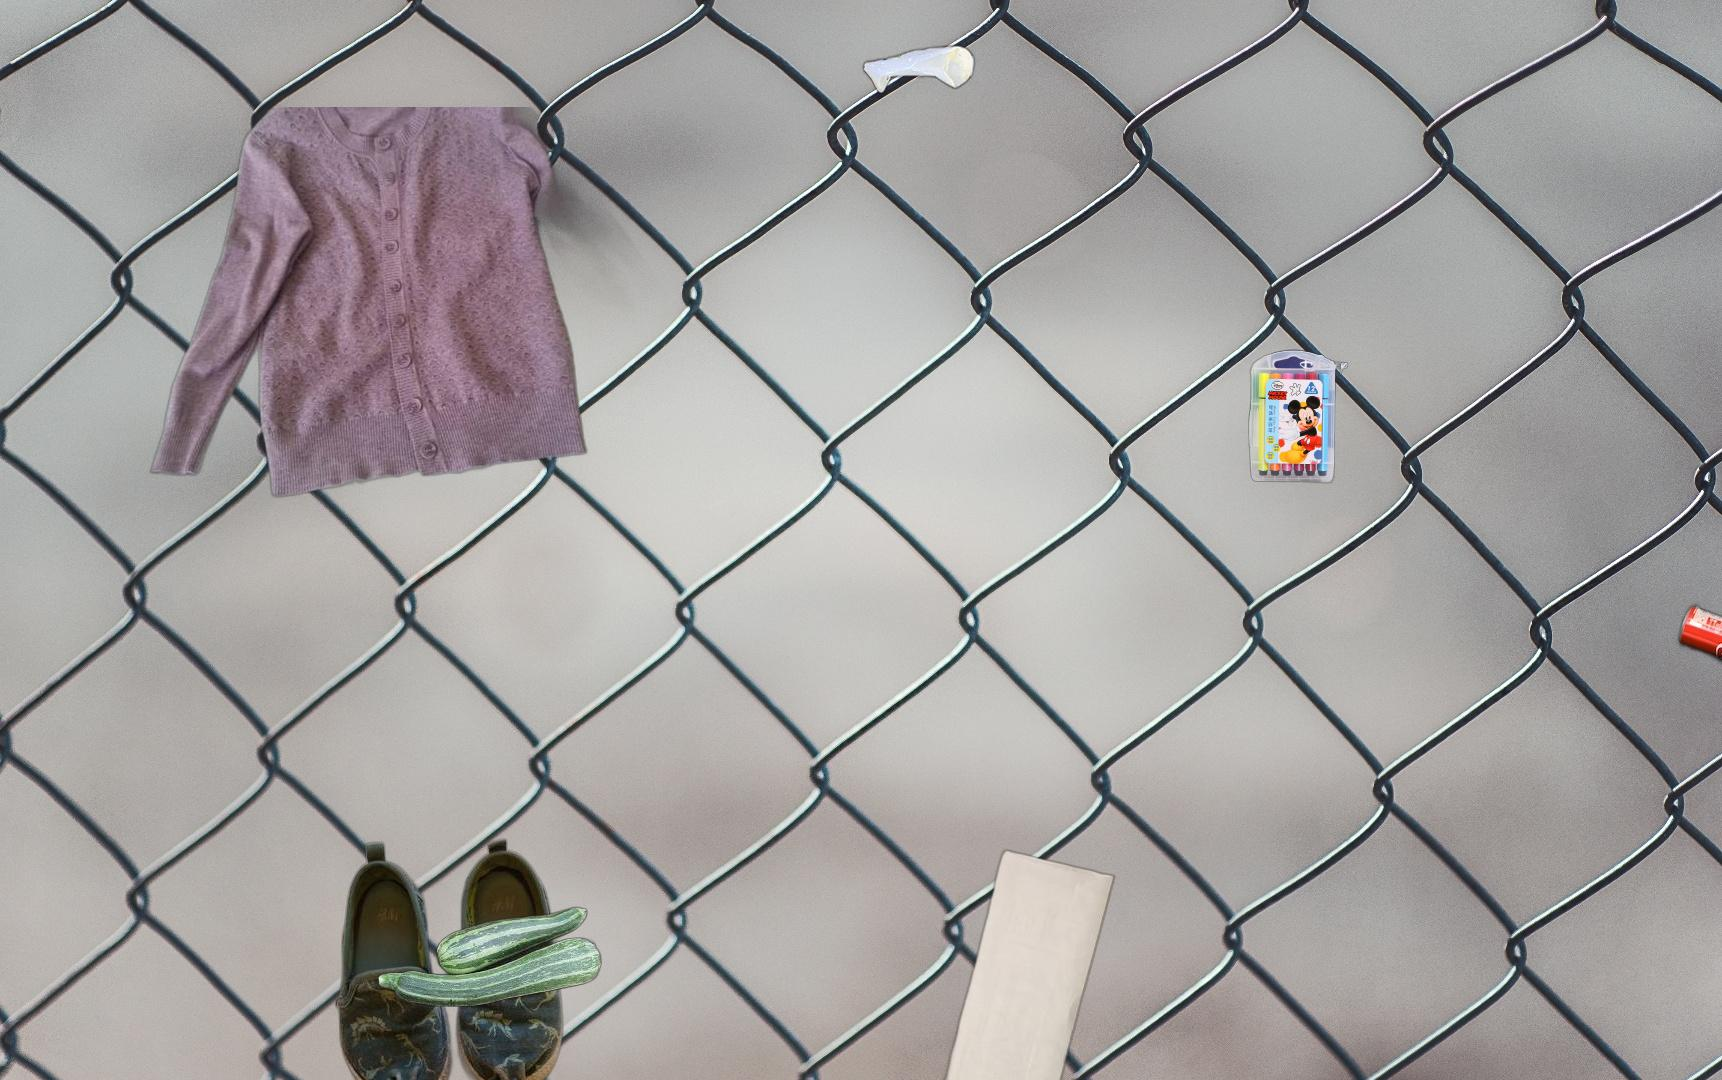biological: (375, 905, 603, 1009)
clothes: (146, 107, 669, 501)
metal-cans: (1673, 598, 1722, 682)
paper: (934, 849, 1119, 1080)
penholder: (1245, 347, 1351, 486)
plastic-bottles: (859, 39, 978, 100)
shoes: (332, 835, 566, 1080)
